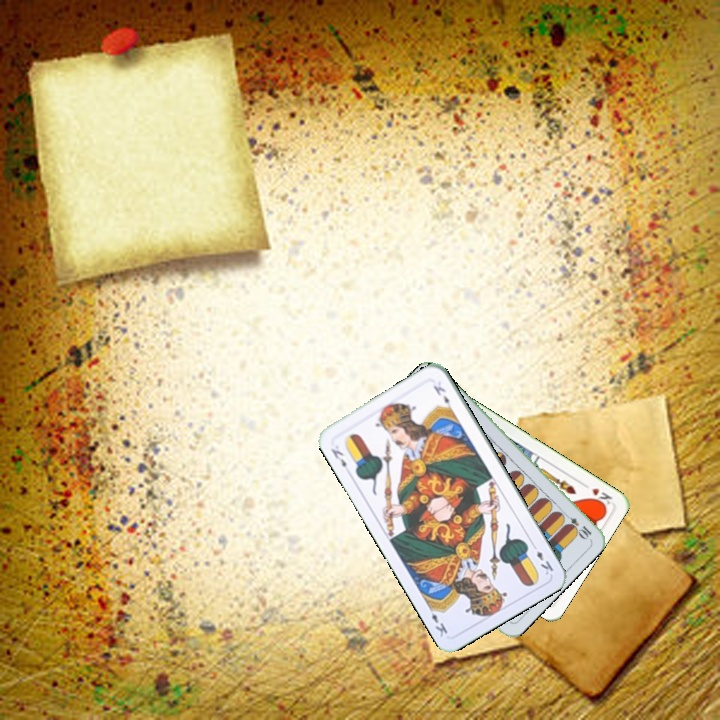E10: (559, 509, 594, 541)
EK: (527, 539, 556, 578), (327, 444, 349, 470)
HK: (578, 478, 615, 509)
